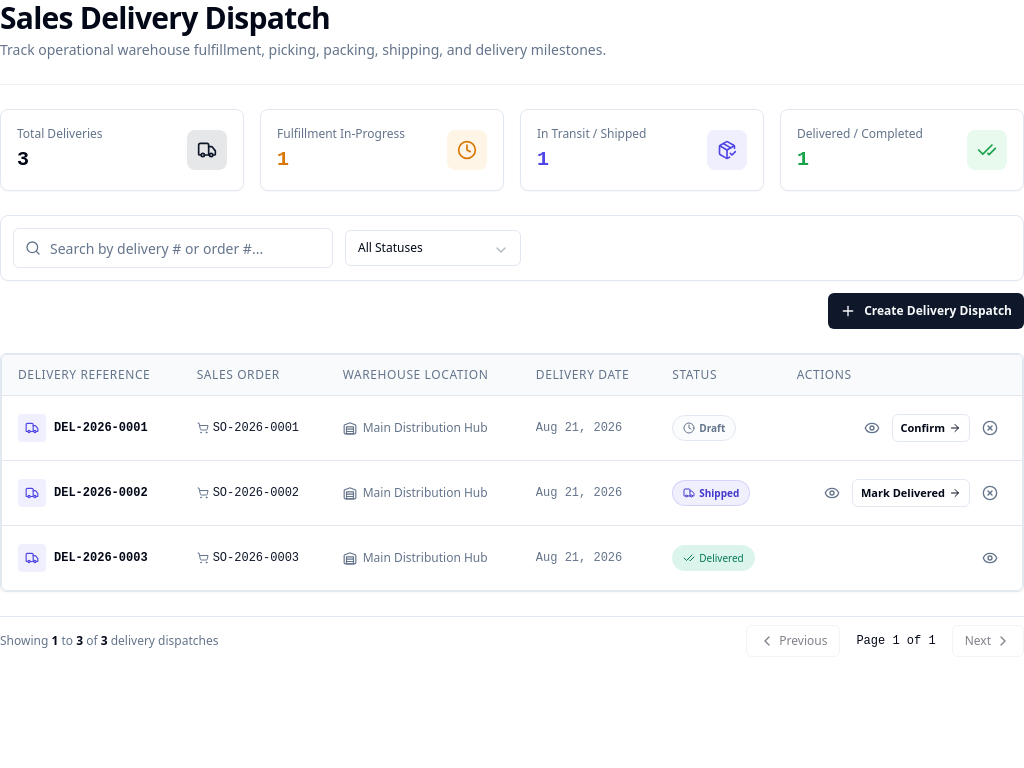
Sales Deliveries Management Suite › opens Sales Delivery Detail modal when view action is clicked
Click the button titled "View Delivery Profile" in the row of "DEL-2026-0001": [872, 428] box x1=856 y1=412 x2=888 y2=444
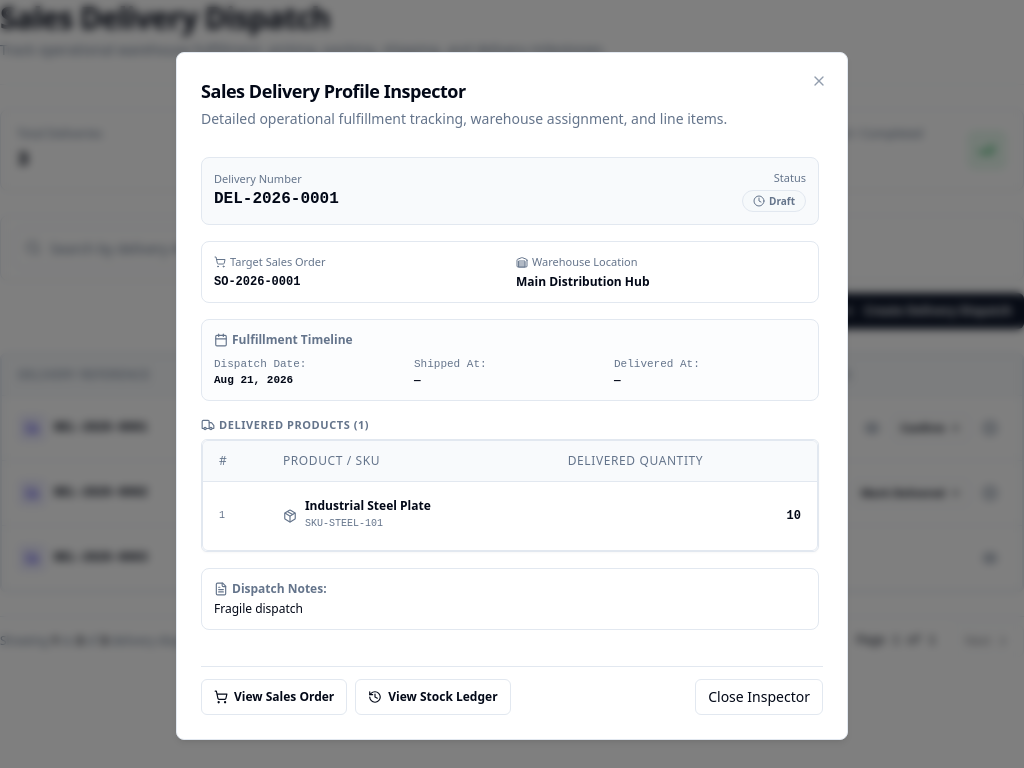
Check: the heading "Sales Delivery Profile Inspector" is shown, box x1=201 y1=79 x2=466 y2=103
Check: the button "View Sales Order" is shown, box x1=201 y1=679 x2=347 y2=715
Check: the button "View Stock Ledger" is shown, box x1=355 y1=679 x2=511 y2=715
